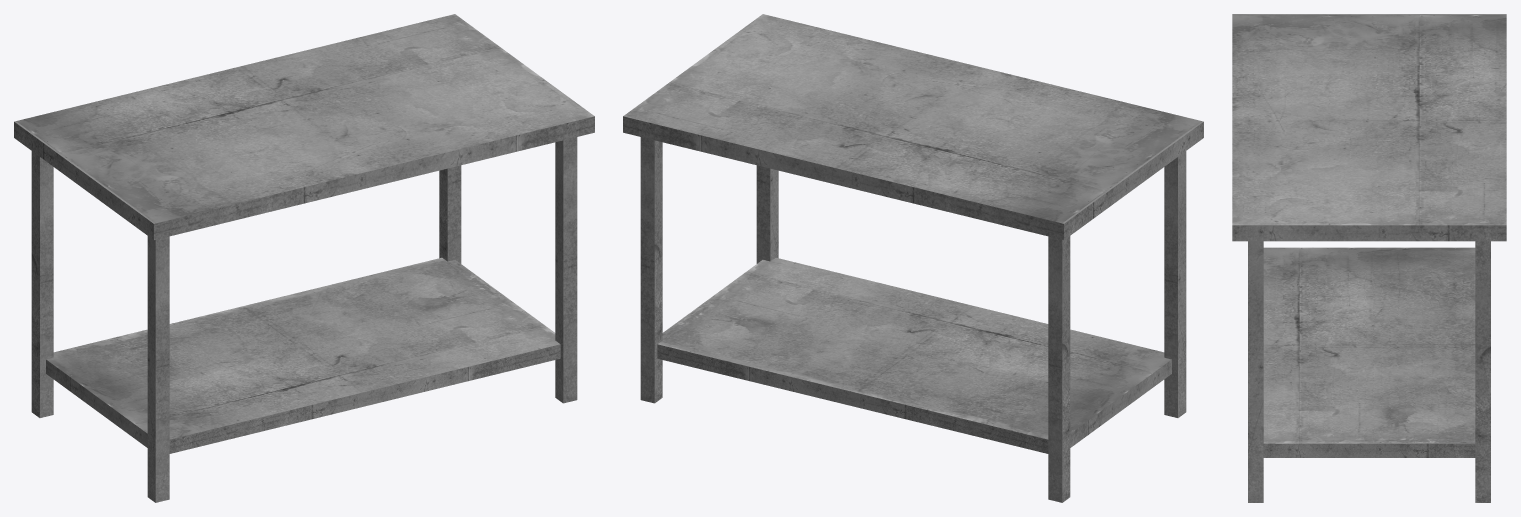
The model's file is Table_M.dae.
The picture shows the model from 3 angles, left to right: view 1: azimuth 30°, elevation 25°; view 2: azimuth 150°, elevation 25°; view 3: azimuth 270°, elevation 25°; orthographic projection.
Parts seen in each view (by area): view 1: Table_M; view 2: Table_M; view 3: Table_M.
Part boxes in pixels (x1,y1,x2,y2): Table_M: (14,14,594,502); Table_M: (623,14,1203,502); Table_M: (1232,14,1506,502).
Size of the model in its own units: 1.59 by 0.8729 by 0.9898.
Materials: 1 (1 with a texture image).
